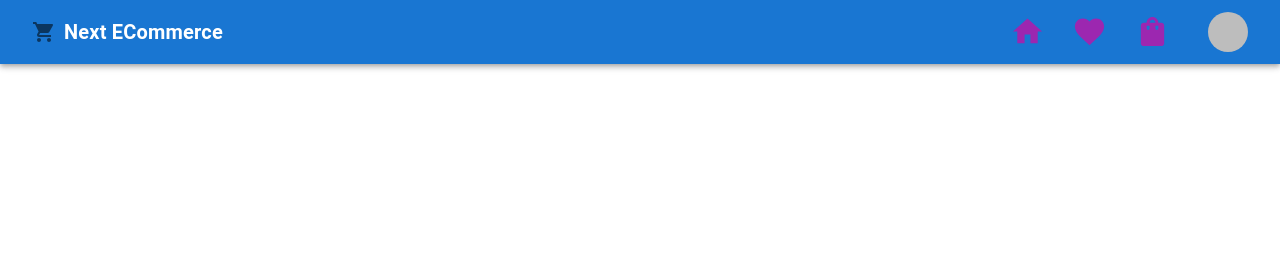
Scenario: App Header › test clicking on avatar opens the menu
This screenshot has width=1280, height=277.
Click the button with test id "avatar-icon": {"x": 1228, "y": 32} [1200,4,1256,60]
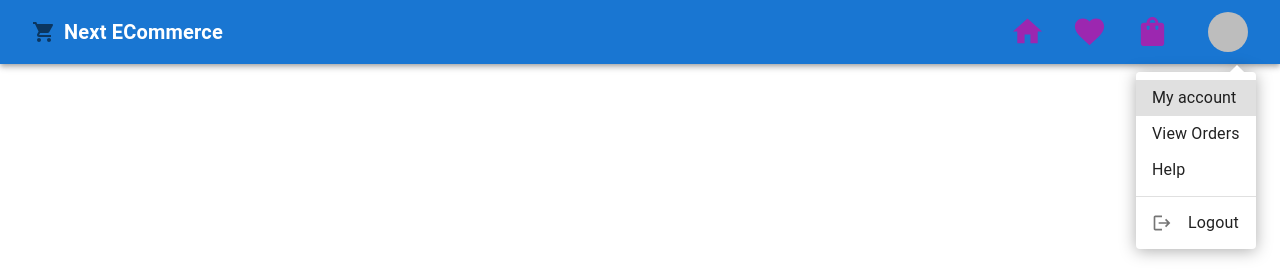
Result: the menu item "My account" is shown at [1136,80,1256,116]
Result: the menu item "View Orders" is shown at [1152,124,1240,143]
Result: the menu item "Help" is shown at [1152,160,1185,179]
